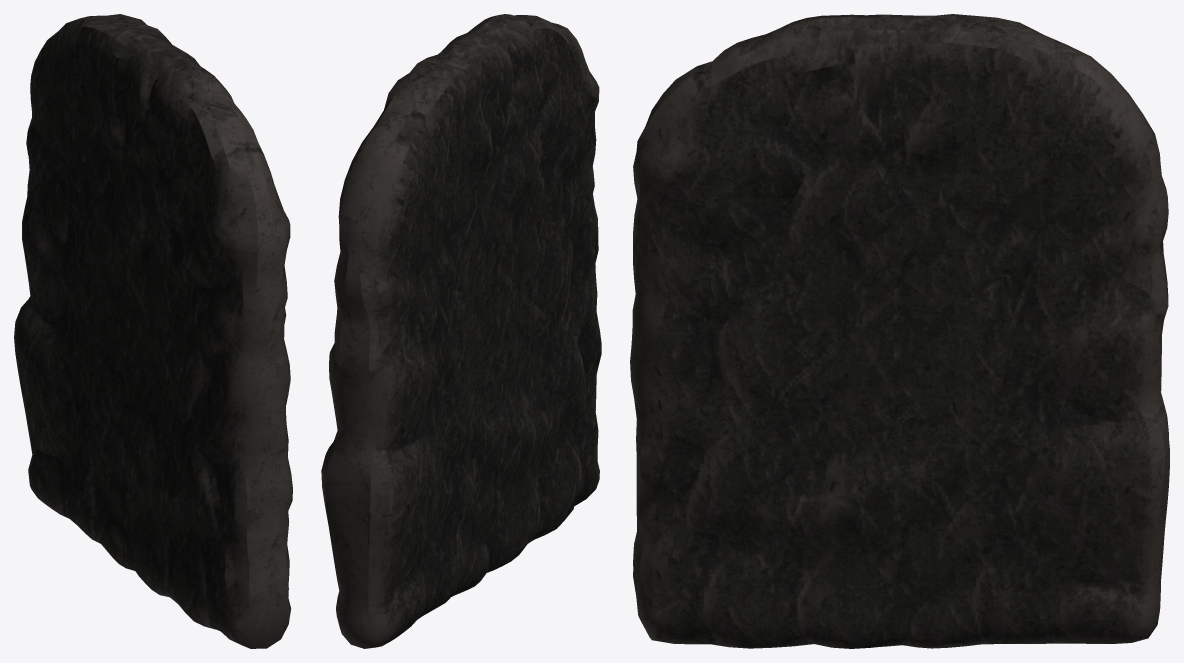
The model's file is Fire_Door.fbx.
3 views of the same model, side by side, from view 1: azimuth 30°, elevation 25°; view 2: azimuth 150°, elevation 25°; view 3: azimuth 270°, elevation 25° (orthographic). The views are drawn at different scales.
Parts seen in each view (by area): view 1: Fire_Door_Retop:default1; view 2: Fire_Door_Retop:default1; view 3: Fire_Door_Retop:default1.
Boxes of the visible parts, <box> form: Fire_Door_Retop:default1: <box>14,14,292,648</box>; Fire_Door_Retop:default1: <box>321,14,601,648</box>; Fire_Door_Retop:default1: <box>630,14,1169,648</box>.
Bounding box in the file's own units: 0.4001 × 2.43 × 1.9.
Materials: 1 (1 with a texture image).
